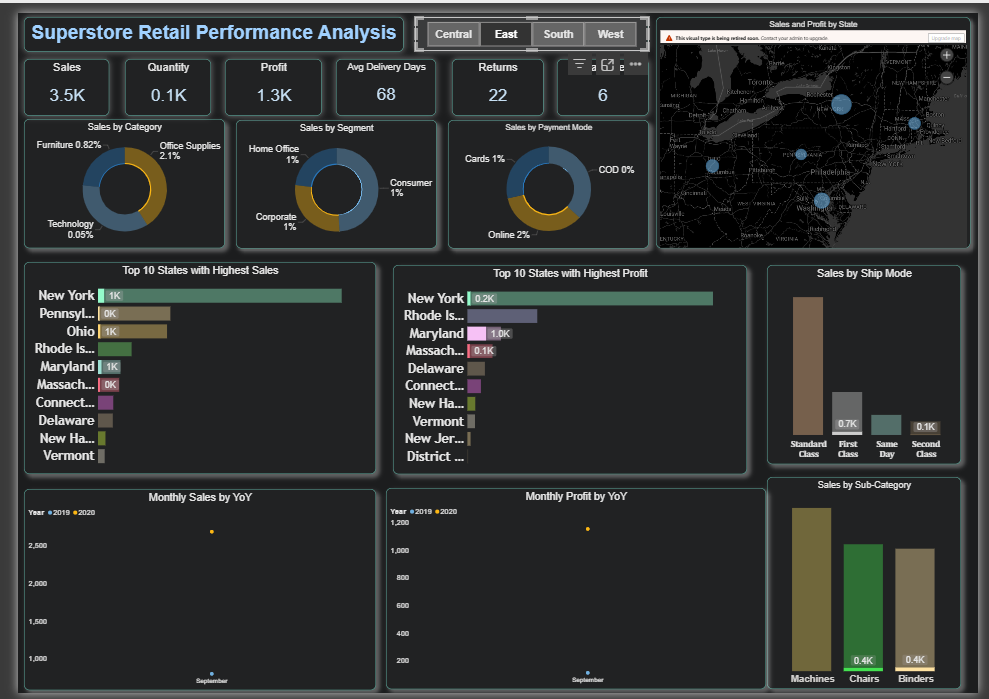

Layout of this report page (visuals, bound fields, positions):
{"tool":"powerbi","page":{"name":"Dashboard","canvas":[2400,1700],"ordinal":0},"visuals":[{"type":"donutChart","title":"Sales by Category","fields":{"Category":["SuperStore_Sales_Dataset.Category"],"Y":["Sum(SuperStore_Sales_Dataset.Sales)"]},"box":[15.8,265.4,501.9,323.2],"z":0},{"type":"clusteredColumnChart","title":"Sales by Sub-Category","fields":{"Category":["SuperStore_Sales_Dataset.Sub-Category"],"Y":["Sum(SuperStore_Sales_Dataset.Sales)"]},"box":[1872.5,1160,485,530],"z":1000},{"type":"clusteredColumnChart","title":"Sales by Ship Mode","fields":{"Category":["SuperStore_Sales_Dataset.Ship Mode"],"Y":["Sum(SuperStore_Sales_Dataset.Sales)"]},"box":[1872.5,630,485,497.5],"z":2000},{"type":"areaChart","title":"Monthly Sales by YoY ","fields":{"Y":["Sum(SuperStore_Sales_Dataset.Sales)"],"Category":["SuperStore_Sales_Dataset.Order Date.Variation.Date Hierarchy.Month","SuperStore_Sales_Dataset.Order Date.Variation.Date Hierarchy.Day"],"Series":["SuperStore_Sales_Dataset.Order Date.Variation.Date Hierarchy.Year"]},"box":[15,1190,880,502.5],"z":3000},{"type":"areaChart","title":"Monthly Profit by YoY ","fields":{"Category":["SuperStore_Sales_Dataset.Order Date.Variation.Date Hierarchy.Month","SuperStore_Sales_Dataset.Order Date.Variation.Date Hierarchy.Day"],"Series":["SuperStore_Sales_Dataset.Order Date.Variation.Date Hierarchy.Year"],"Y":["Sum(SuperStore_Sales_Dataset.Profit)"]},"box":[920,1187.5,950,502.5],"z":4000},{"type":"map","title":"Sales and Profit by State","fields":{"Category":["SuperStore_Sales_Dataset.State"],"Size":["Sum(SuperStore_Sales_Dataset.Sales)"]},"box":[1594.9,10.5,785.6,578.1],"z":5000},{"type":"donutChart","title":"Sales by Segment","fields":{"Category":["SuperStore_Sales_Dataset.Segment"],"Y":["Sum(SuperStore_Sales_Dataset.Sales)"]},"box":[543.9,268,501.9,320.6],"z":6000},{"type":"donutChart","title":"Sales by Payment Mode","fields":{"Category":["SuperStore_Sales_Dataset.Payment Mode"],"Y":["Sum(SuperStore_Sales_Dataset.Sales)"]},"box":[1074.7,268,501.9,320.6],"z":7000},{"type":"slicer","fields":{"Values":["SuperStore_Sales_Dataset.Region"]},"box":[993.2,10.5,583.3,84.1],"z":8000},{"type":"textbox","box":[15.8,10.5,948.5,86.7],"z":9000},{"type":"card","title":"Sales","fields":{"Values":["Sum(SuperStore_Sales_Dataset.Sales)"]},"box":[15.8,115.6,212.8,141.9],"z":10000},{"type":"card","title":"Quantity","fields":{"Values":["Sum(SuperStore_Sales_Dataset.Quantity)"]},"box":[268,115.6,215.5,141.9],"z":11000},{"type":"card","title":"Profit","fields":{"Values":["Sum(SuperStore_Sales_Dataset.Profit)"]},"box":[517.6,115.6,241.7,141.9],"z":12000},{"type":"card","title":"Avg Delivery Days","fields":{"Values":["Avg(SuperStore_Sales_Dataset.AvgDelivery)"]},"box":[796.1,115.6,249.6,141.9],"z":13000},{"type":"card","title":"Returns","fields":{"Values":["CountNonNull(SuperStore_Sales_Dataset.Returns)"]},"box":[1085.2,115.6,228.6,141.9],"z":14000},{"type":"card","title":"Total Cities","fields":{"Values":["Count(SuperStore_Sales_Dataset.City)"]},"box":[1347.9,115.6,228.6,141.9],"z":15000},{"type":"clusteredBarChart","title":"Top 10 States with Highest Sales","fields":{"Category":["SuperStore_Sales_Dataset.State"],"Y":["Sum(SuperStore_Sales_Dataset.Sales)"]},"box":[15,622.5,880,530],"z":16000},{"type":"clusteredBarChart","title":"Top 10 States with Highest Profit ","fields":{"Category":["SuperStore_Sales_Dataset.State"],"Y":["Sum(SuperStore_Sales_Dataset.Profit)"]},"box":[937.5,630,885,522.5],"z":17000}]}

Visuals, with their boxes in screenshot pixels (x1, y1, x2, y2), scaled from the page's 2400x1700 canvas onto the 989x699 screenshot:
"Sales by Category" donutChart: {"left": 7, "top": 109, "right": 213, "bottom": 242}
"Sales by Sub-Category" clusteredColumnChart: {"left": 772, "top": 477, "right": 971, "bottom": 695}
"Sales by Ship Mode" clusteredColumnChart: {"left": 772, "top": 259, "right": 971, "bottom": 464}
"Monthly Sales by YoY " areaChart: {"left": 6, "top": 489, "right": 369, "bottom": 696}
"Monthly Profit by YoY " areaChart: {"left": 379, "top": 488, "right": 771, "bottom": 695}
"Sales and Profit by State" map: {"left": 657, "top": 4, "right": 981, "bottom": 242}
"Sales by Segment" donutChart: {"left": 224, "top": 110, "right": 431, "bottom": 242}
"Sales by Payment Mode" donutChart: {"left": 443, "top": 110, "right": 650, "bottom": 242}
slicer - SuperStore_Sales_Dataset.Region: {"left": 409, "top": 4, "right": 650, "bottom": 39}
textbox: {"left": 7, "top": 4, "right": 397, "bottom": 40}
"Sales" card: {"left": 7, "top": 48, "right": 94, "bottom": 106}
"Quantity" card: {"left": 110, "top": 48, "right": 199, "bottom": 106}
"Profit" card: {"left": 213, "top": 48, "right": 313, "bottom": 106}
"Avg Delivery Days" card: {"left": 328, "top": 48, "right": 431, "bottom": 106}
"Returns" card: {"left": 447, "top": 48, "right": 541, "bottom": 106}
"Total Cities" card: {"left": 555, "top": 48, "right": 650, "bottom": 106}
"Top 10 States with Highest Sales" clusteredBarChart: {"left": 6, "top": 256, "right": 369, "bottom": 474}
"Top 10 States with Highest Profit " clusteredBarChart: {"left": 386, "top": 259, "right": 751, "bottom": 474}
